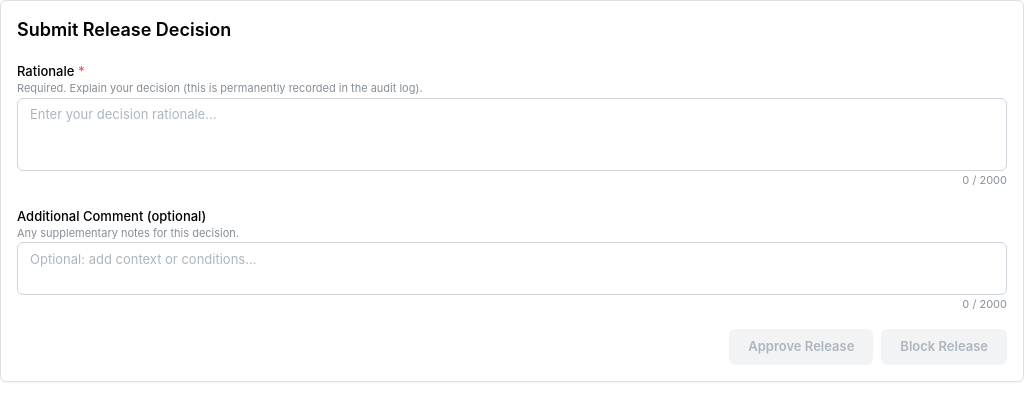
Test case: ReleaseDecisionCard — rationale validation › buttons are enabled with rationale of 10+ characters
Type "Long enough rationale text here" into the text box with test id "rationale-textarea" at (512, 134), box [17, 98, 1007, 170]
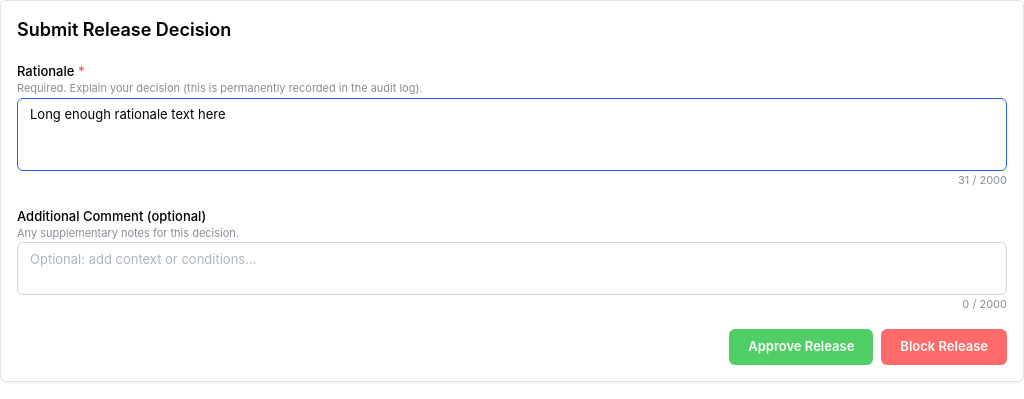
Now the button with test id "approve-btn" is enabled, box [729, 329, 873, 365]
Now the button with test id "block-btn" is enabled, box [881, 329, 1007, 365]
